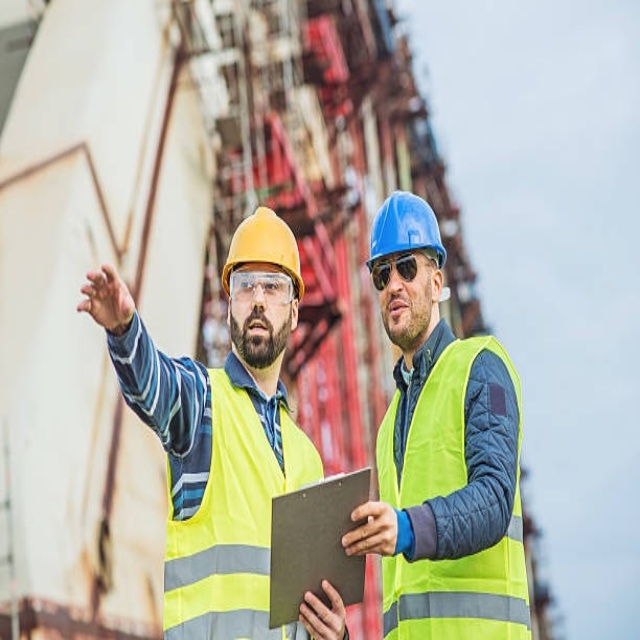Gafas: (227, 268, 294, 307), (368, 248, 432, 285)
Sin_guantes: (79, 262, 135, 333), (341, 499, 404, 560), (300, 578, 349, 640)
Sin_mascara: (243, 314, 270, 356), (383, 300, 411, 331)
